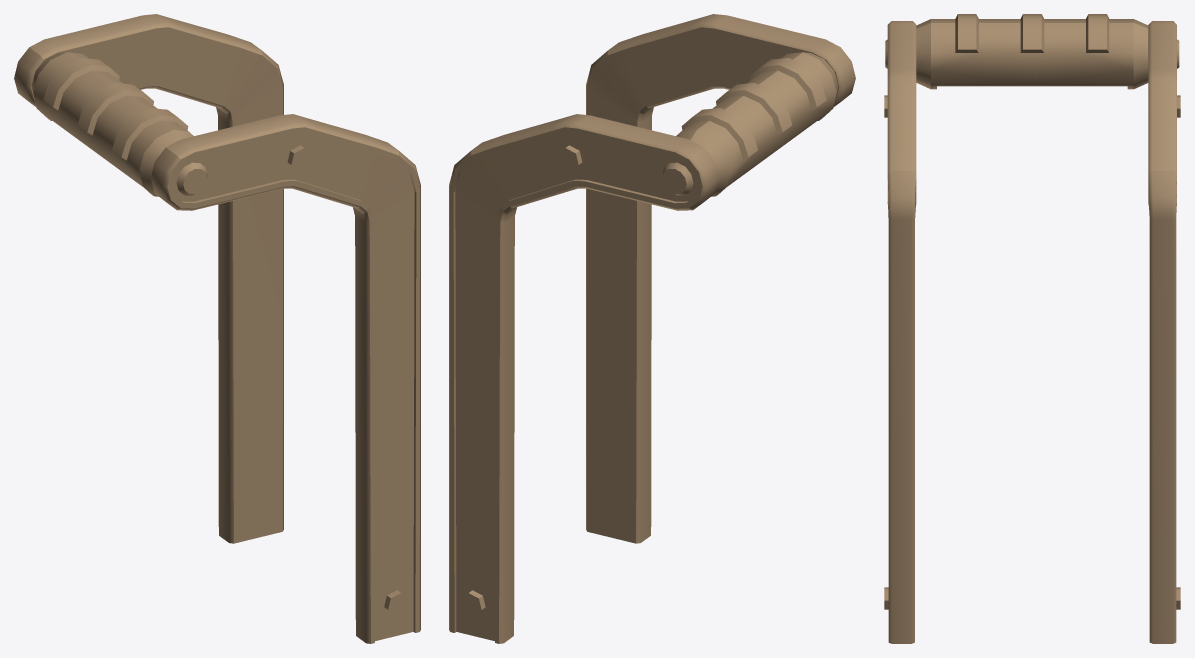
The model's file is env_packingstation_arealight.fbx.
The picture shows the model from 3 angles, left to right: view 1: azimuth 30°, elevation 25°; view 2: azimuth 150°, elevation 25°; view 3: azimuth 270°, elevation 25°; orthographic projection. The views are drawn at different scales.
Visible parts, largest first — view 1: env_packingstation_arealight1_part2_lp; view 2: env_packingstation_arealight1_part2_lp; view 3: env_packingstation_arealight1_part2_lp.
Boxes of the visible parts, x1,y1,x2,y2 form: env_packingstation_arealight1_part2_lp: (14,14,420,643); env_packingstation_arealight1_part2_lp: (449,14,855,643); env_packingstation_arealight1_part2_lp: (884,14,1180,643).
Size of the model in its own units: 38.08 by 74.87 by 38.73.
